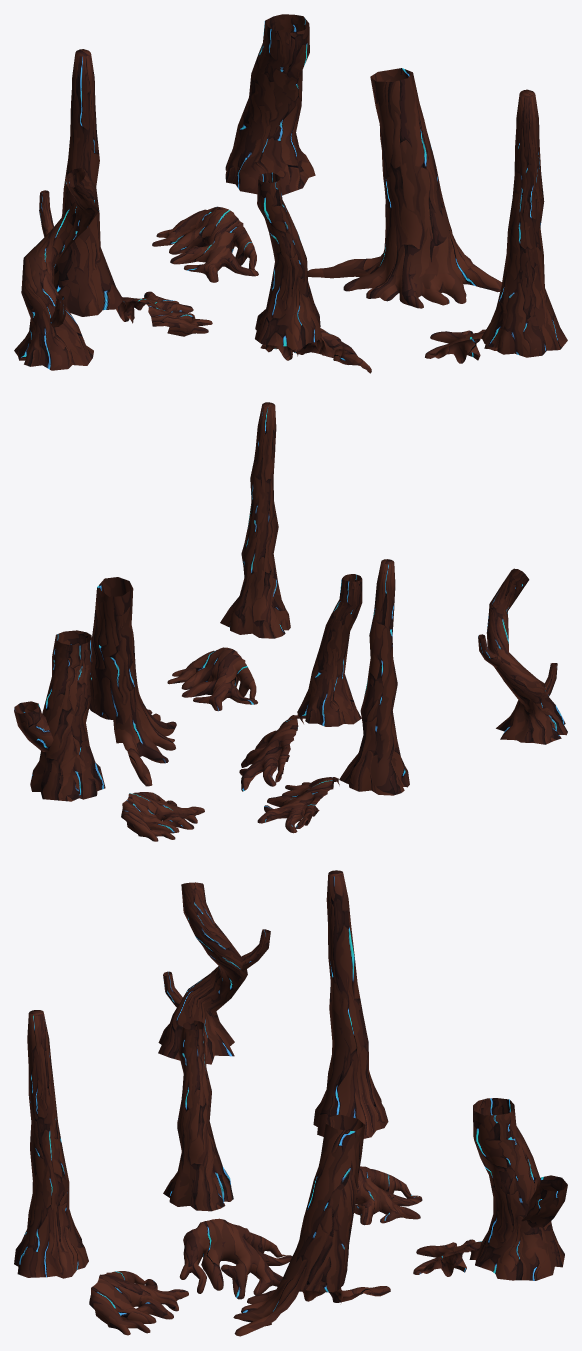
Rendered from Zone_4_trunks.FBX.
The picture shows the model from 3 angles, top to bottom: view 1: azimuth 30°, elevation 25°; view 2: azimuth 150°, elevation 25°; view 3: azimuth 270°, elevation 25°; orthographic projection. The views are drawn at different scales.
Visible parts, largest first — view 1: Zone 4 trunks; view 2: Zone 4 trunks; view 3: Zone 4 trunks.
Boxes of the visible parts, x1,y1,x2,y2 form: Zone 4 trunks: (14, 14, 567, 373); Zone 4 trunks: (14, 402, 567, 841); Zone 4 trunks: (14, 870, 567, 1336).
Bounding box in the file's own units: 45.83 × 28.62 × 44.1.
